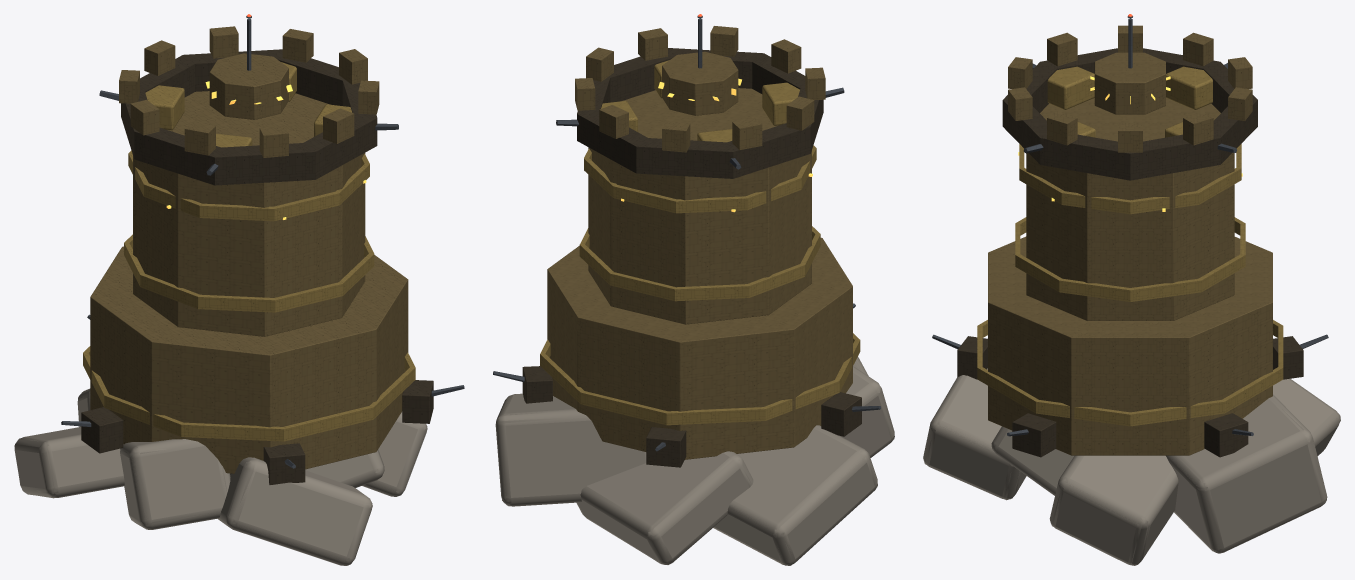
File: place_landmark_tower_crown.glb
The picture shows the model from 3 angles, left to right: view 1: azimuth 30°, elevation 25°; view 2: azimuth 150°, elevation 25°; view 3: azimuth 270°, elevation 25°; orthographic projection. The views are drawn at different scales.
Visible parts, largest first — view 1: LOD0_Hull, LOD0_Stone, LOD0_Armor, LOD0_Livery_brass, LOD1_Stone, LOD1_Armor, LOD1_Livery_brass, LOD1_Hull, LOD2_Stone, LOD0_Mechanical; view 2: LOD0_Hull, LOD0_Stone, LOD1_Stone, LOD0_Armor, LOD0_Livery_brass, LOD1_Armor, LOD1_Livery_brass, LOD1_Hull, LOD2_Stone, LOD0_Mechanical; view 3: LOD0_Hull, LOD0_Stone, LOD1_Stone, LOD0_Armor, LOD0_Livery_brass, LOD1_Livery_brass, LOD1_Armor, LOD1_Hull, LOD2_Stone, LOD0_Mechanical.
Boxes of the visible parts, x1,y1,x2,y2 form: LOD0_Hull: [90, 26, 408, 473]; LOD0_Stone: [14, 389, 427, 565]; LOD0_Armor: [81, 49, 433, 484]; LOD0_Livery_brass: [83, 62, 415, 441]; LOD1_Stone: [14, 392, 427, 565]; LOD1_Armor: [121, 49, 377, 454]; LOD1_Livery_brass: [83, 67, 415, 441]; LOD1_Hull: [119, 29, 407, 446]; LOD2_Stone: [14, 388, 427, 565]; LOD0_Mechanical: [61, 16, 464, 468]; LOD0_Hull: [547, 26, 852, 459]; LOD0_Stone: [495, 357, 894, 565]; LOD1_Stone: [495, 360, 894, 564]; LOD0_Armor: [522, 48, 861, 467]; LOD0_Livery_brass: [540, 60, 860, 425]; LOD1_Armor: [552, 48, 844, 439]; LOD1_Livery_brass: [540, 67, 859, 425]; LOD1_Hull: [575, 26, 825, 411]; LOD2_Stone: [496, 359, 894, 565]; LOD0_Mechanical: [493, 16, 880, 451]; LOD0_Hull: [988, 25, 1272, 455]; LOD0_Stone: [923, 368, 1339, 565]; LOD1_Stone: [923, 376, 1340, 565]; LOD0_Armor: [957, 48, 1303, 457]; LOD0_Livery_brass: [977, 66, 1283, 426]; LOD1_Livery_brass: [977, 73, 1283, 426]; LOD1_Armor: [958, 48, 1257, 428]; LOD1_Hull: [1008, 25, 1252, 337]; LOD2_Stone: [924, 375, 1340, 565]; LOD0_Mechanical: [932, 16, 1328, 436].
Size of what is drawn, in the model's own units: 67.91 by 90.95 by 70.42.
7 materials, 4 textured.
